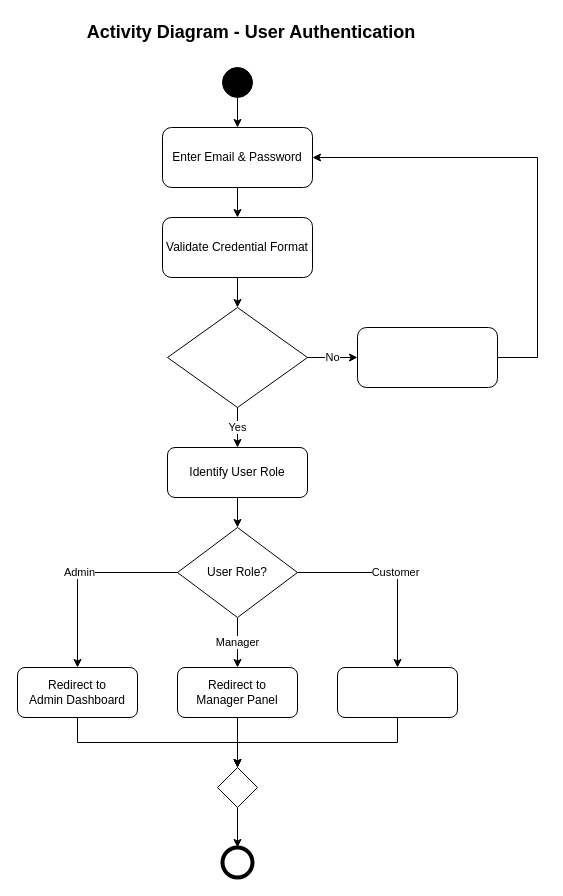
Some shapes in this 563 by 896 pixel diagram are drawn without their labels. The centre of each missing label's shape, as x and y in pixels:
Credentials Correct?: (237,357)
Redirect to Customer Portal: (397,692)
Show Error Message: (427,357)
